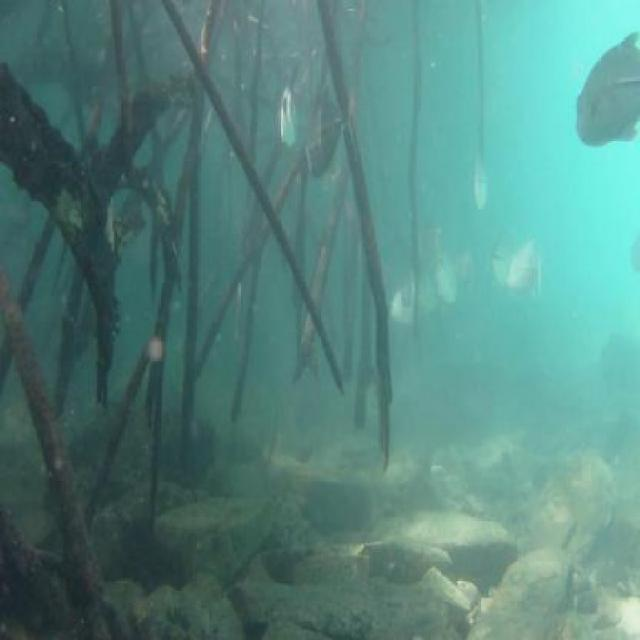Caranx_sexfasciatus_juvenile: (575, 29, 640, 154), (304, 88, 358, 184), (508, 238, 544, 308), (388, 274, 424, 344), (272, 72, 300, 156), (488, 220, 514, 292), (432, 234, 456, 312), (471, 153, 494, 221), (458, 248, 476, 294)
